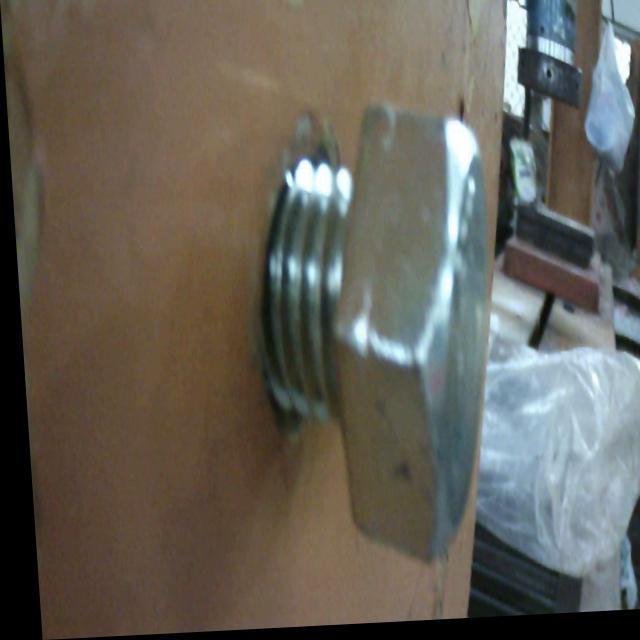Loose bolt: (246, 100, 503, 581)
